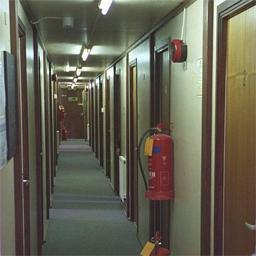Otro Obstaculo: (134, 127, 174, 201)
Puerta: (222, 21, 251, 253), (15, 29, 31, 254), (34, 42, 44, 249), (130, 66, 138, 226)
